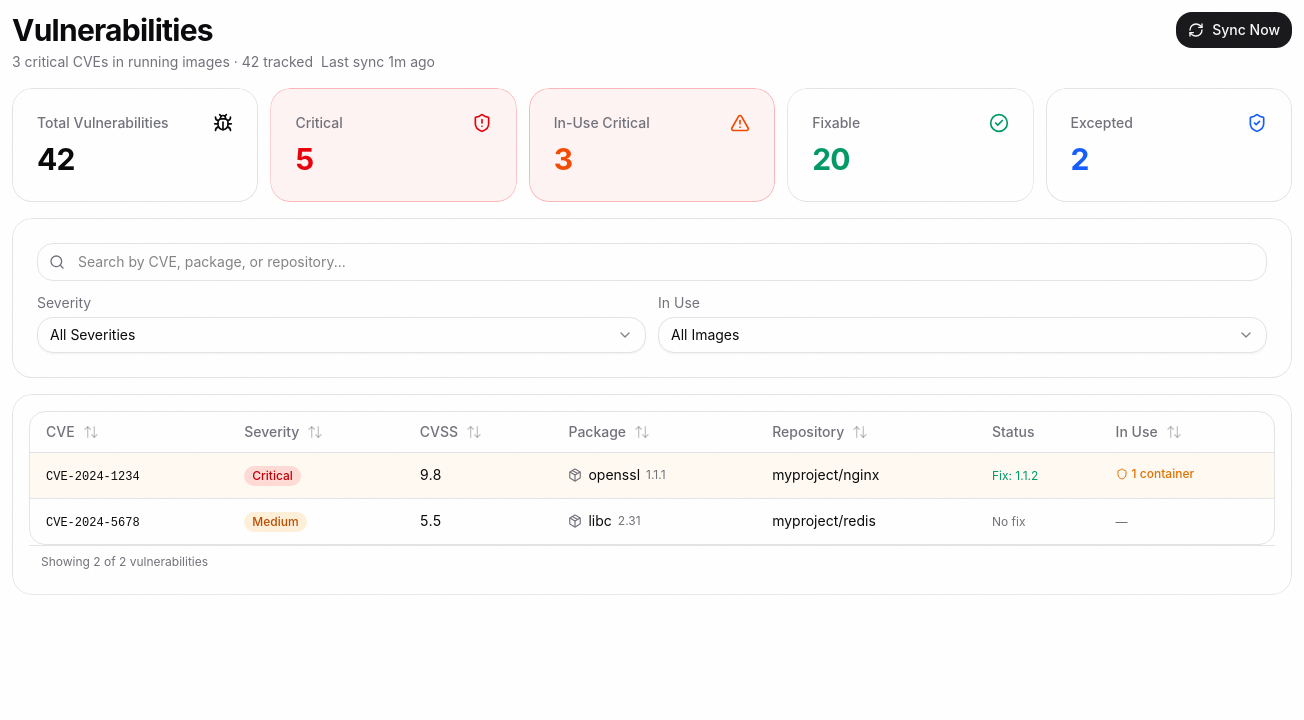
it: HarborVulnerabilitiesPage › does not reopen a detail panel when its filtered-out row reappears
The width and height of the screenshot is (1304, 720).
Click the text "CVE-2024-1234".
click(93, 477)  # box left=46, top=470, right=140, bottom=484
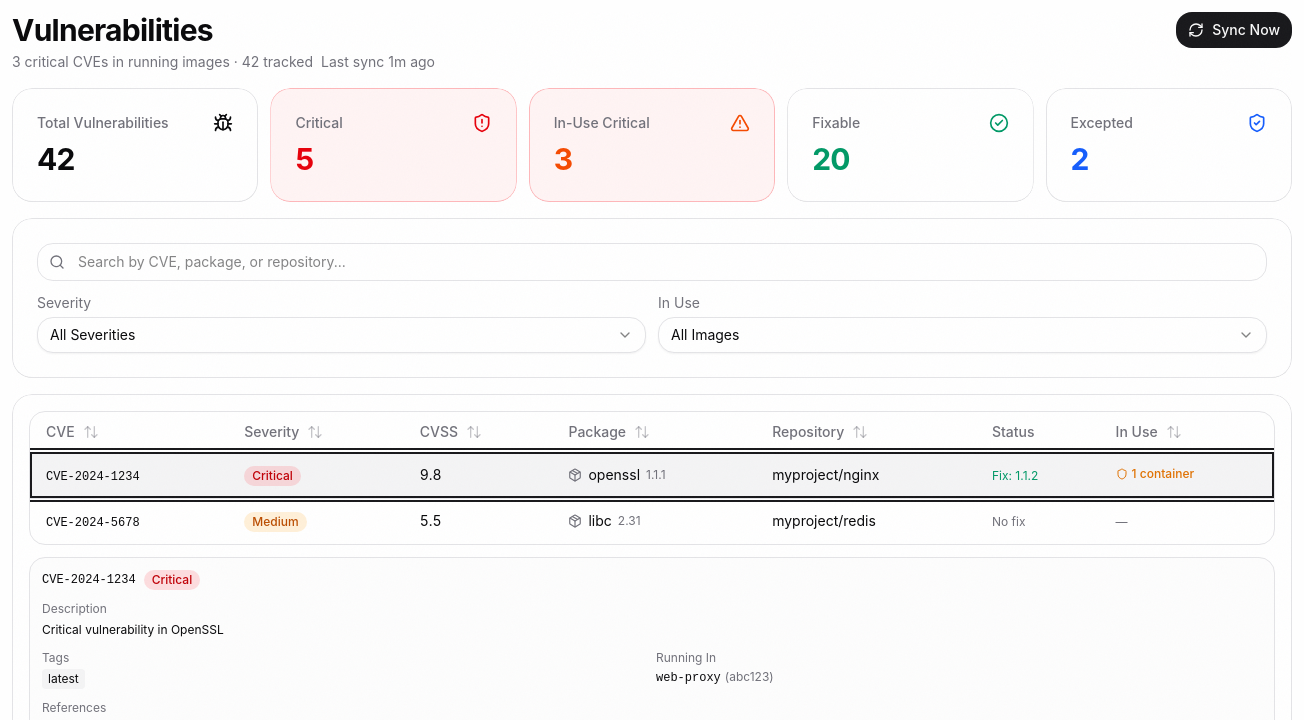
Expected: the text "Critical vulnerability in OpenSSL" is shown, left=42, top=622, right=224, bottom=636
Note: Filter the expanded row out → panel hides and its state is cleared
Type "5678" into the field with placeholder "Search by CVE, package, or repository...".
click(652, 262); type("5678")  # box left=37, top=243, right=1267, bottom=281
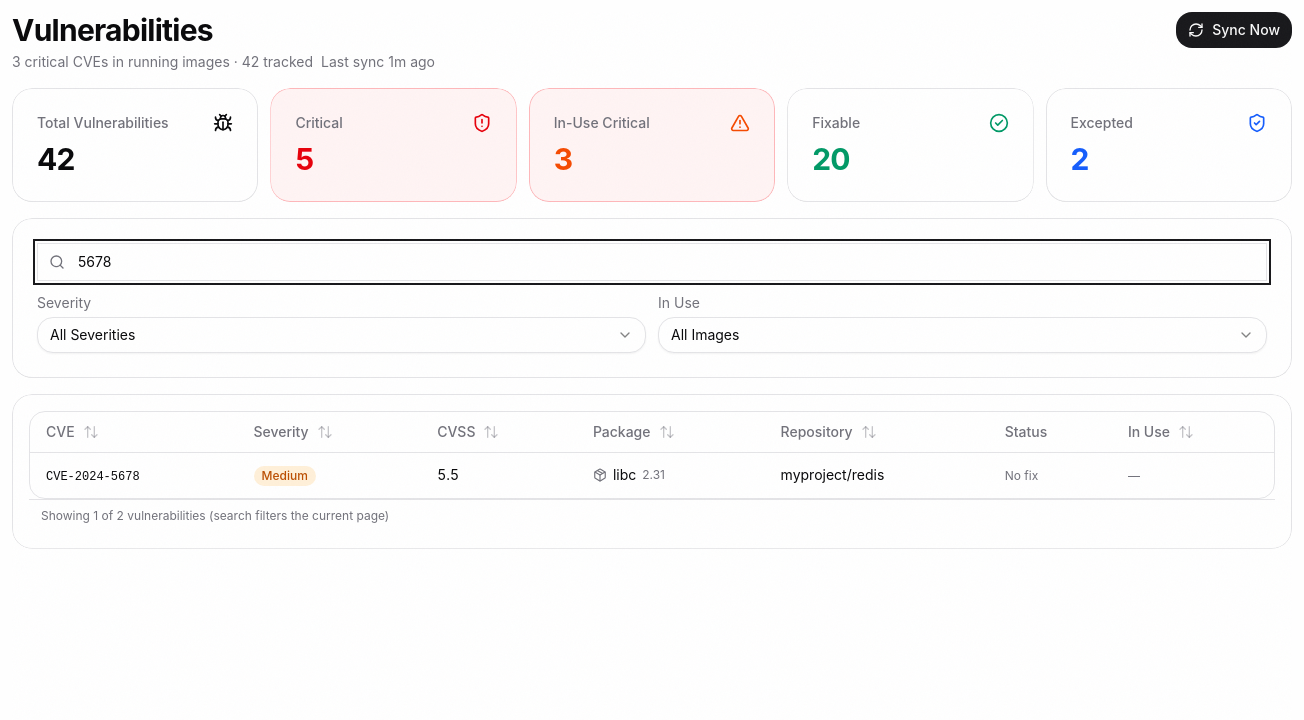
Expected: the text "Critical vulnerability in OpenSSL" is gone
Note: Bring the row back → panel stays collapsed (state was cleared, not retained)
Clear the field with placeholder "Search by CVE, package, or repository..." at point(652, 262), box left=37, top=243, right=1267, bottom=281
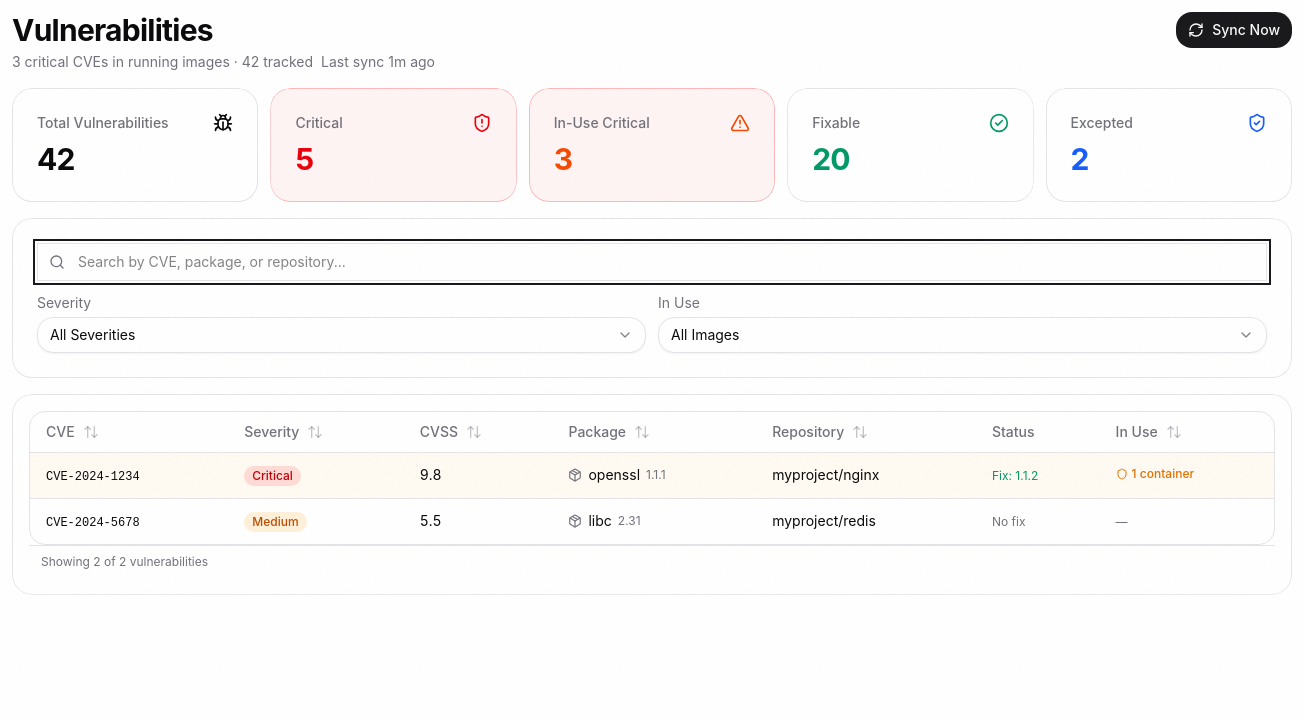
Expected: the text "Critical vulnerability in OpenSSL" is not shown
Expected: the text "CVE-2024-1234" is shown, left=46, top=470, right=140, bottom=484
